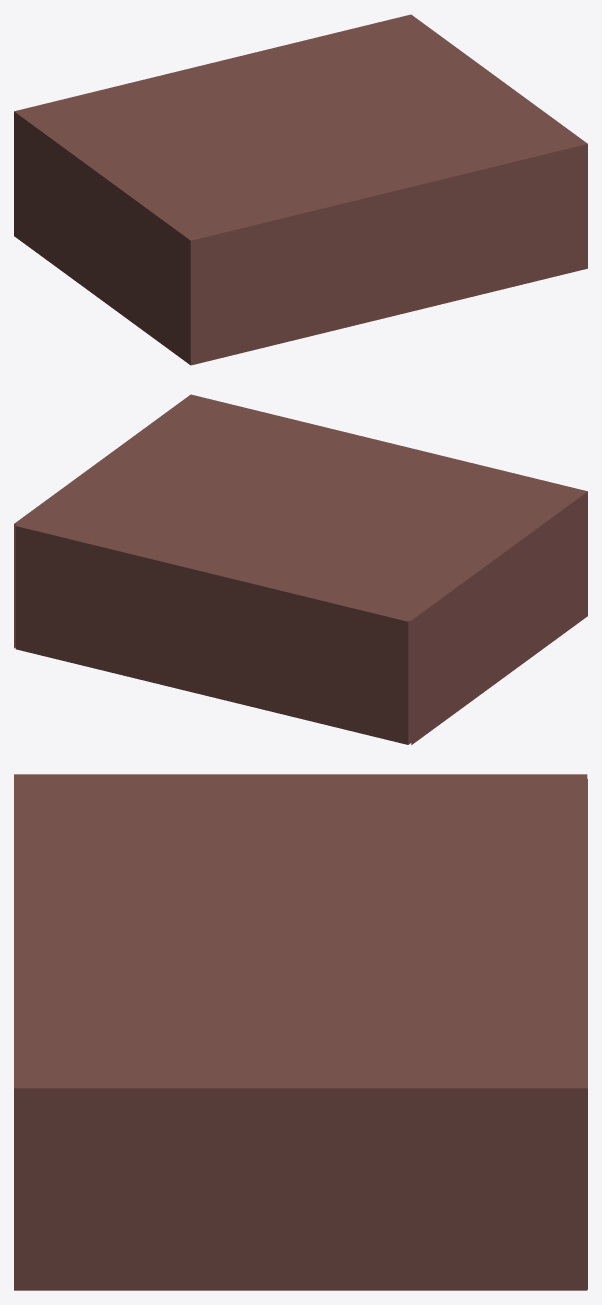
The model's file is Bakery_Box_E.FBX.
3 views of the same model, one above another, from view 1: azimuth 30°, elevation 25°; view 2: azimuth 150°, elevation 25°; view 3: azimuth 270°, elevation 25° (orthographic). The views are drawn at different scales.
Parts seen in each view (by area): view 1: Lid; view 2: Lid, Bakery_Box; view 3: Lid.
Part boxes in pixels (x1,y1,x2,y2): Lid: (14,14,587,365); Lid: (14,394,587,744); Bakery_Box: (15,524,411,744); Lid: (14,774,587,1290).
Bounding box in the file's own units: 152 × 45.57 × 117.
